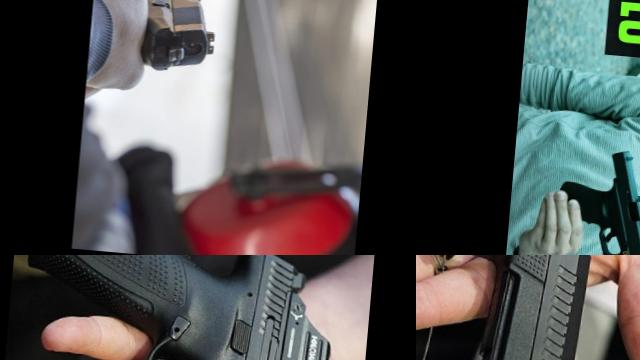handgun: (0, 255, 344, 360), (416, 255, 640, 360), (548, 142, 640, 255), (116, 0, 222, 78)
